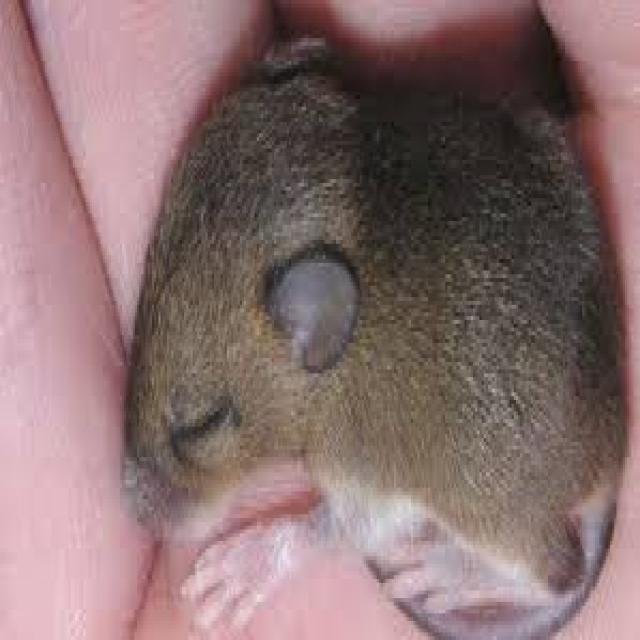Mouse: (124, 62, 622, 570)
